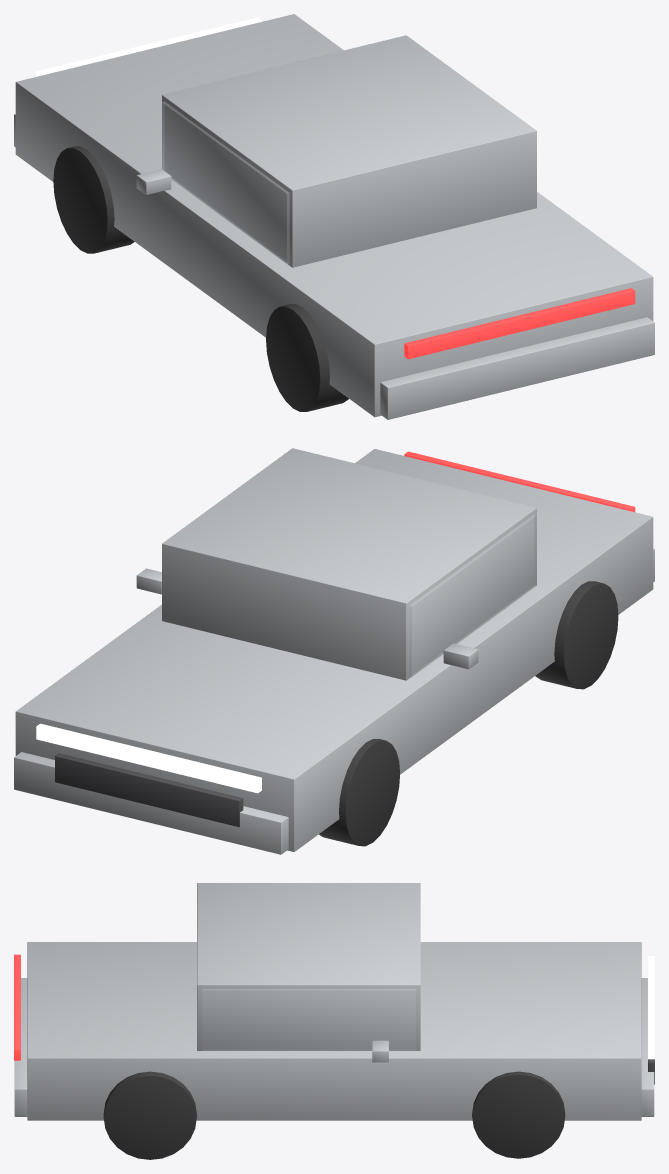
Rendered from vehicle.glb.
The picture shows the model from 3 angles, top to bottom: view 1: azimuth 30°, elevation 25°; view 2: azimuth 150°, elevation 25°; view 3: azimuth 270°, elevation 25°; orthographic projection. The views are drawn at different scales.
Parts seen in each view (by area): view 1: BODY_Main, BODY_Roof, BODY_Bumpers_Rear, GLASS_Greenhouse, WHEEL_RR_Tire, WHEEL_FR_Tire, LIGHT_Taillights, LIGHT_Headlights, BODY_Mirror_R; view 2: BODY_Main, BODY_Roof, GLASS_Greenhouse, BODY_Bumpers_Front, BODY_Grille, WHEEL_RR_Tire, WHEEL_FR_Tire, LIGHT_Headlights, LIGHT_Taillights, BODY_Mirror_R; view 3: BODY_Main, BODY_Roof, GLASS_Greenhouse, WHEEL_RL_Tire, WHEEL_FL_Tire, BODY_Bumpers_Rear, BODY_Bumpers_Front, LIGHT_Taillights, LIGHT_Headlights.
Boxes of the visible parts, x1=… form: BODY_Main: x1=15, y1=14, x2=653, y2=417; BODY_Roof: x1=162, y1=35, x2=536, y2=267; BODY_Bumpers_Rear: x1=380, y1=317, x2=654, y2=419; GLASS_Greenhouse: x1=162, y1=102, x2=289, y2=263; WHEEL_RR_Tire: x1=266, y1=304, x2=348, y2=411; WHEEL_FR_Tire: x1=53, y1=146, x2=134, y2=253; LIGHT_Taillights: x1=404, y1=288, x2=635, y2=359; LIGHT_Headlights: x1=36, y1=17, x2=261, y2=76; BODY_Mirror_R: x1=136, y1=169, x2=171, y2=194; BODY_Main: x1=15, y1=449, x2=653, y2=851; BODY_Roof: x1=162, y1=448, x2=536, y2=680; GLASS_Greenhouse: x1=409, y1=514, x2=536, y2=676; BODY_Bumpers_Front: x1=14, y1=752, x2=288, y2=854; BODY_Grille: x1=55, y1=753, x2=243, y2=827; WHEEL_RR_Tire: x1=535, y1=581, x2=618, y2=689; WHEEL_FR_Tire: x1=319, y1=739, x2=400, y2=846; LIGHT_Headlights: x1=36, y1=723, x2=261, y2=793; LIGHT_Taillights: x1=404, y1=451, x2=635, y2=512; BODY_Mirror_R: x1=443, y1=643, x2=478, y2=669; BODY_Main: x1=27, y1=942, x2=641, y2=1120; BODY_Roof: x1=197, y1=883, x2=420, y2=1050; GLASS_Greenhouse: x1=202, y1=989, x2=415, y2=1050; WHEEL_RL_Tire: x1=103, y1=1071, x2=196, y2=1159; WHEEL_FL_Tire: x1=472, y1=1071, x2=565, y2=1158; BODY_Bumpers_Rear: x1=14, y1=978, x2=27, y2=1116; BODY_Bumpers_Front: x1=641, y1=978, x2=654, y2=1116; LIGHT_Taillights: x1=14, y1=954, x2=20, y2=1060; LIGHT_Headlights: x1=648, y1=956, x2=654, y2=1059.
Bounding box in the file's own units: 2.36 × 1.3 × 4.61.
